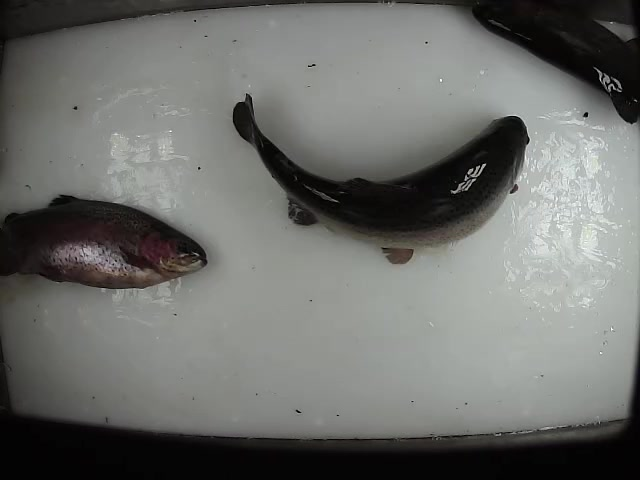fish: (228, 94, 533, 269), (1, 193, 210, 291)
